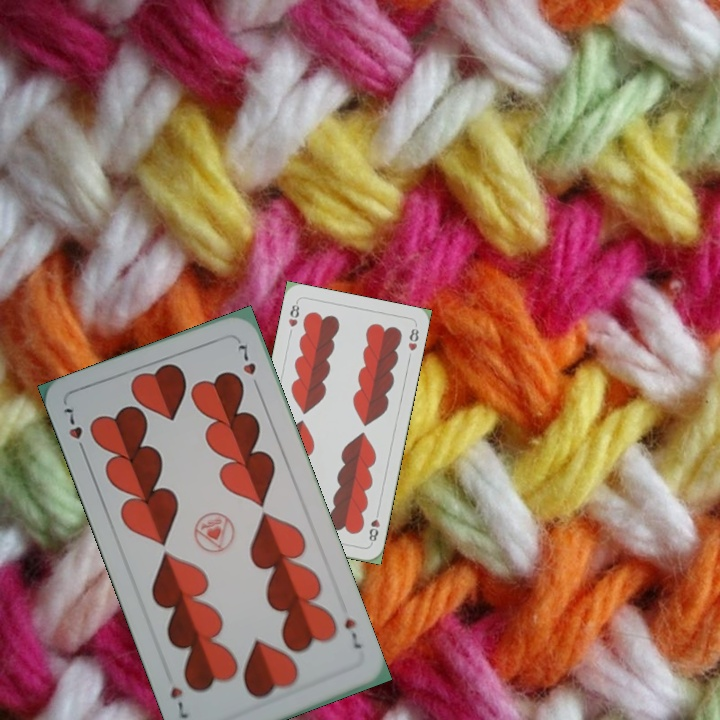H7: (59, 404, 89, 458), (340, 614, 365, 652)
H8: (365, 506, 382, 547), (284, 298, 302, 330)
